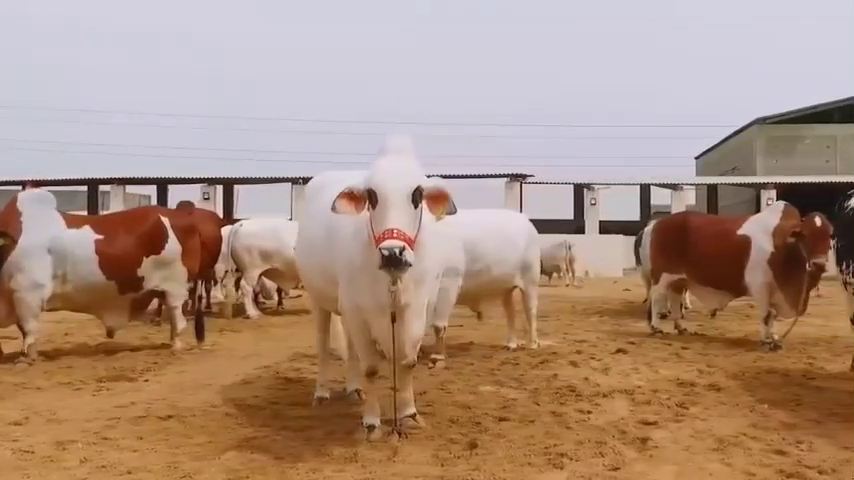bo: (289, 129, 440, 439), (3, 183, 200, 367), (637, 188, 837, 355), (433, 192, 547, 358), (223, 206, 295, 319), (527, 217, 581, 283)
